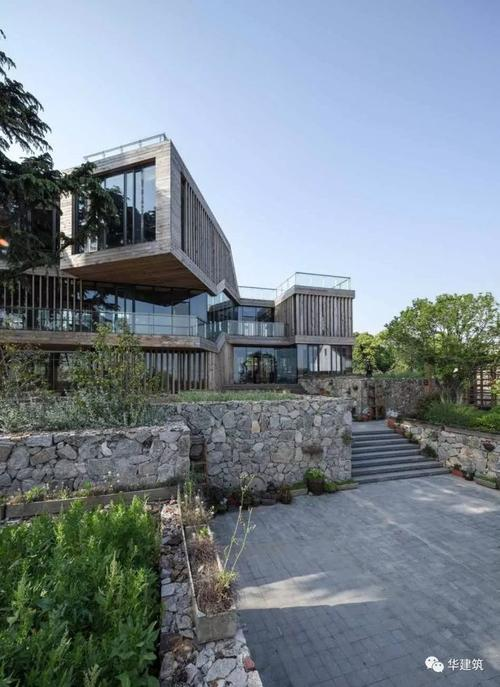buildings: (24, 149, 386, 374)
